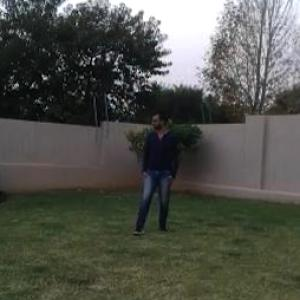follow: (140, 103, 178, 236)
